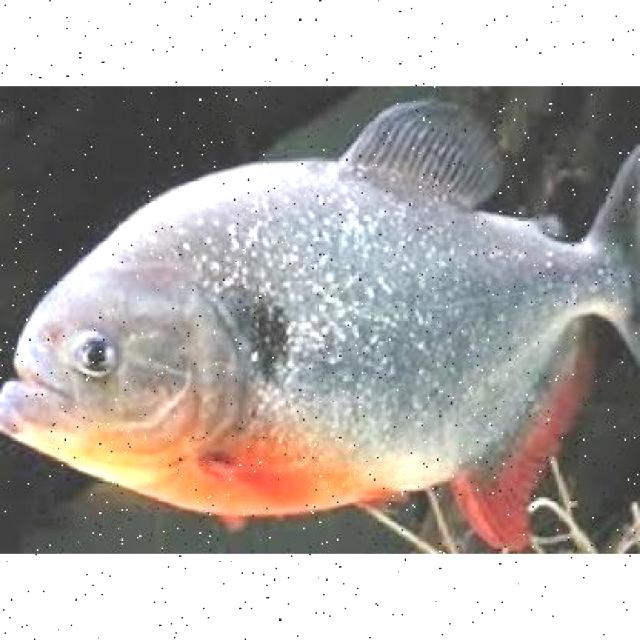ikan-pacu: (0, 125, 640, 521)
